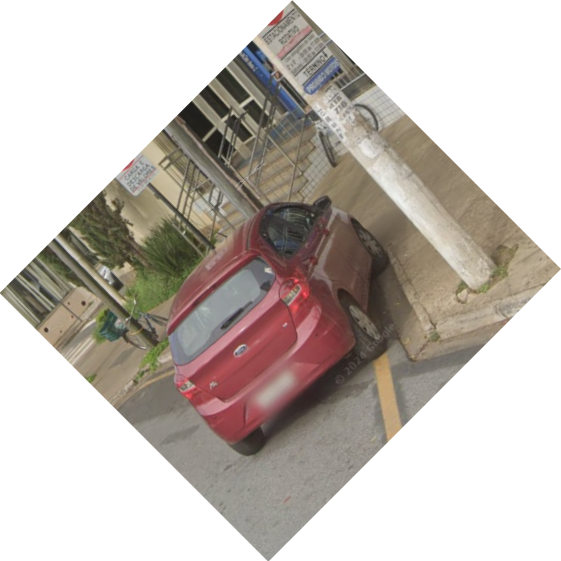car: (161, 191, 391, 464)
